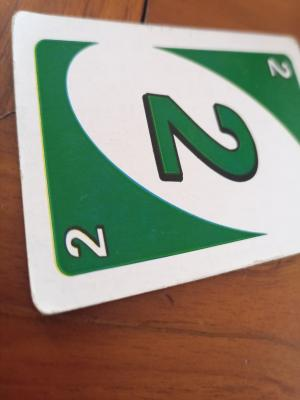green: (34, 40, 291, 237)
num_2: (54, 212, 116, 273)
